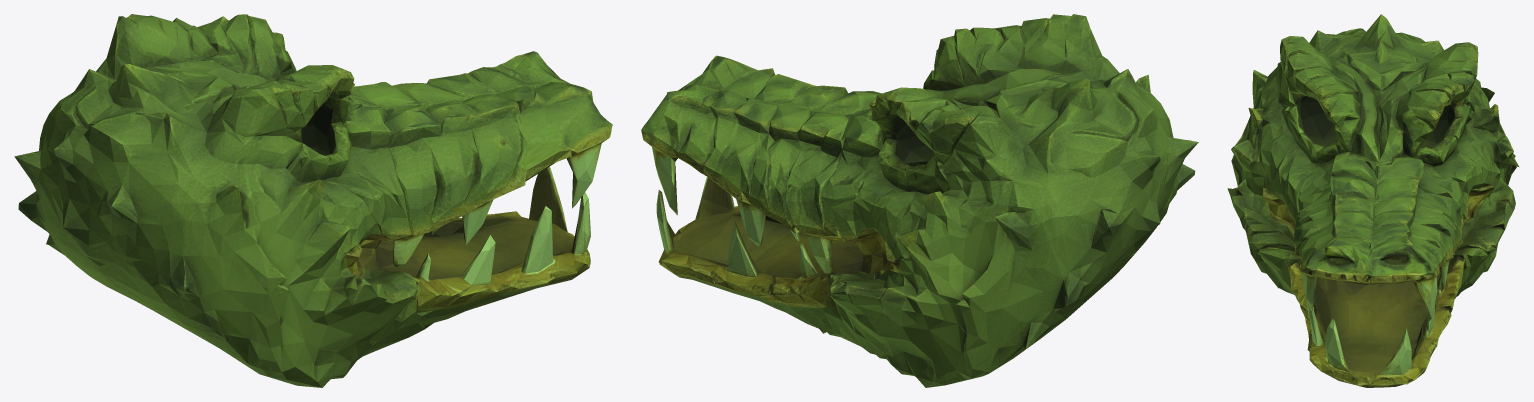
The model's file is crocodile.glb.
3 renders of one model, left to right at view 1: azimuth 30°, elevation 25°; view 2: azimuth 150°, elevation 25°; view 3: azimuth 270°, elevation 25°, orthographic. The views are drawn at different scales.
Visible parts, largest first — view 1: tripo_node_7f84c943-185c-45ee-b73c-ea2203a2db7a; view 2: tripo_node_7f84c943-185c-45ee-b73c-ea2203a2db7a; view 3: tripo_node_7f84c943-185c-45ee-b73c-ea2203a2db7a.
Boxes of the visible parts, x1=… form: tripo_node_7f84c943-185c-45ee-b73c-ea2203a2db7a: x1=14, y1=14, x2=612, y2=387; tripo_node_7f84c943-185c-45ee-b73c-ea2203a2db7a: x1=641, y1=14, x2=1198, y2=387; tripo_node_7f84c943-185c-45ee-b73c-ea2203a2db7a: x1=1227, y1=14, x2=1518, y2=387.
Size of the model in its own units: 1.8 by 1 by 1.17.
1 material, 1 textured.
